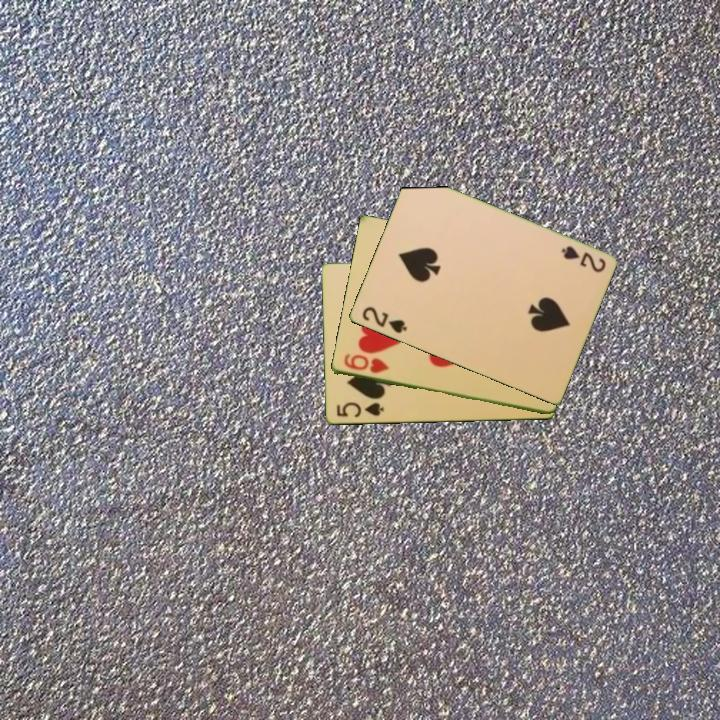2s: (358, 303, 410, 337), (557, 242, 608, 276)
5s: (333, 399, 386, 421)
6h: (340, 350, 391, 376)
